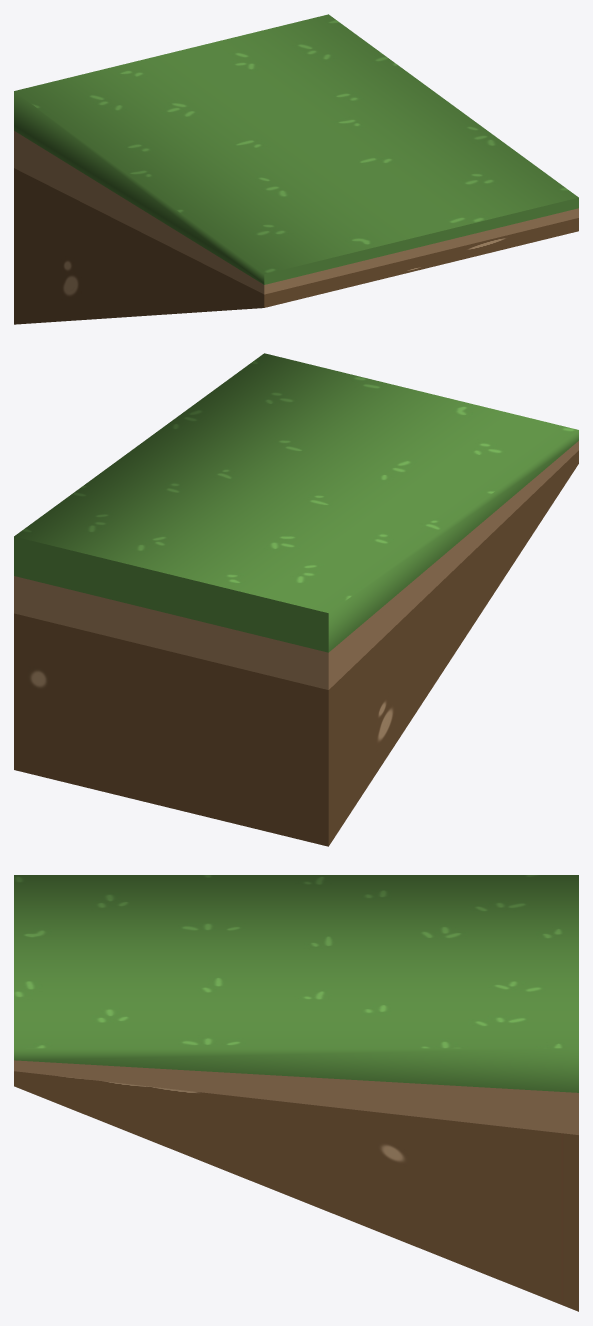
Rendered from GrassBlock_Triangle_2.fbx.
The picture shows the model from 3 angles, top to bottom: view 1: azimuth 30°, elevation 25°; view 2: azimuth 150°, elevation 25°; view 3: azimuth 270°, elevation 25°; orthographic projection. The views are drawn at different scales.
Parts seen in each view (by area): view 1: Land002; view 2: Land002; view 3: Land002.
Part boxes in pixels (<box>): Land002: <box>14,14,578,324</box>; Land002: <box>14,353,578,846</box>; Land002: <box>14,875,578,1311</box>.
Size of the model in its own units: 72.83 by 51.65 by 100.
1 material, 1 textured.
